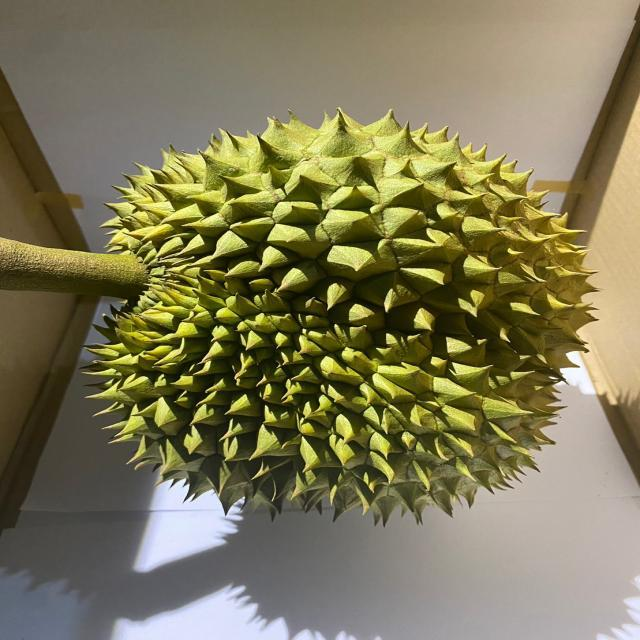immature: (81, 105, 605, 525)
